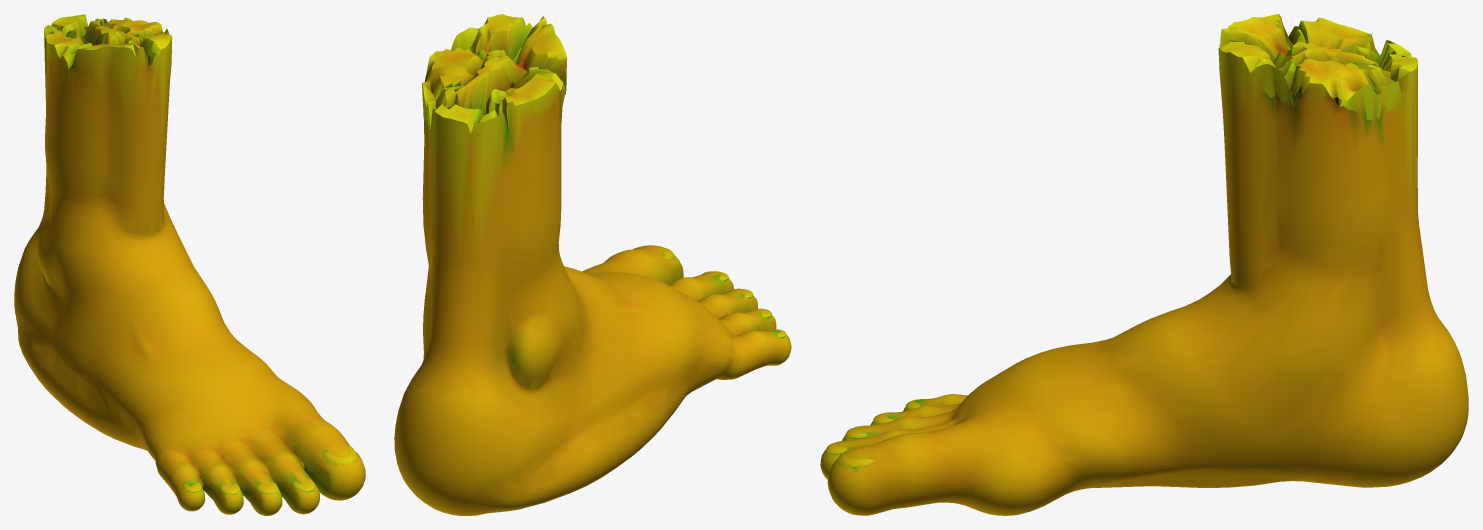
File: foot_lo.glb
3 views of the same model, side by side, from view 1: azimuth 30°, elevation 25°; view 2: azimuth 150°, elevation 25°; view 3: azimuth 270°, elevation 25° (orthographic). The views are drawn at different scales.
Visible parts, largest first — view 1: foot; view 2: foot; view 3: foot.
Boxes of the visible parts, x1,y1,x2,y2 form: foot: (14, 14, 365, 515); foot: (394, 14, 791, 515); foot: (820, 14, 1468, 515).
Bounding box in the file's own units: 1.59 × 3.2 × 4.2.
